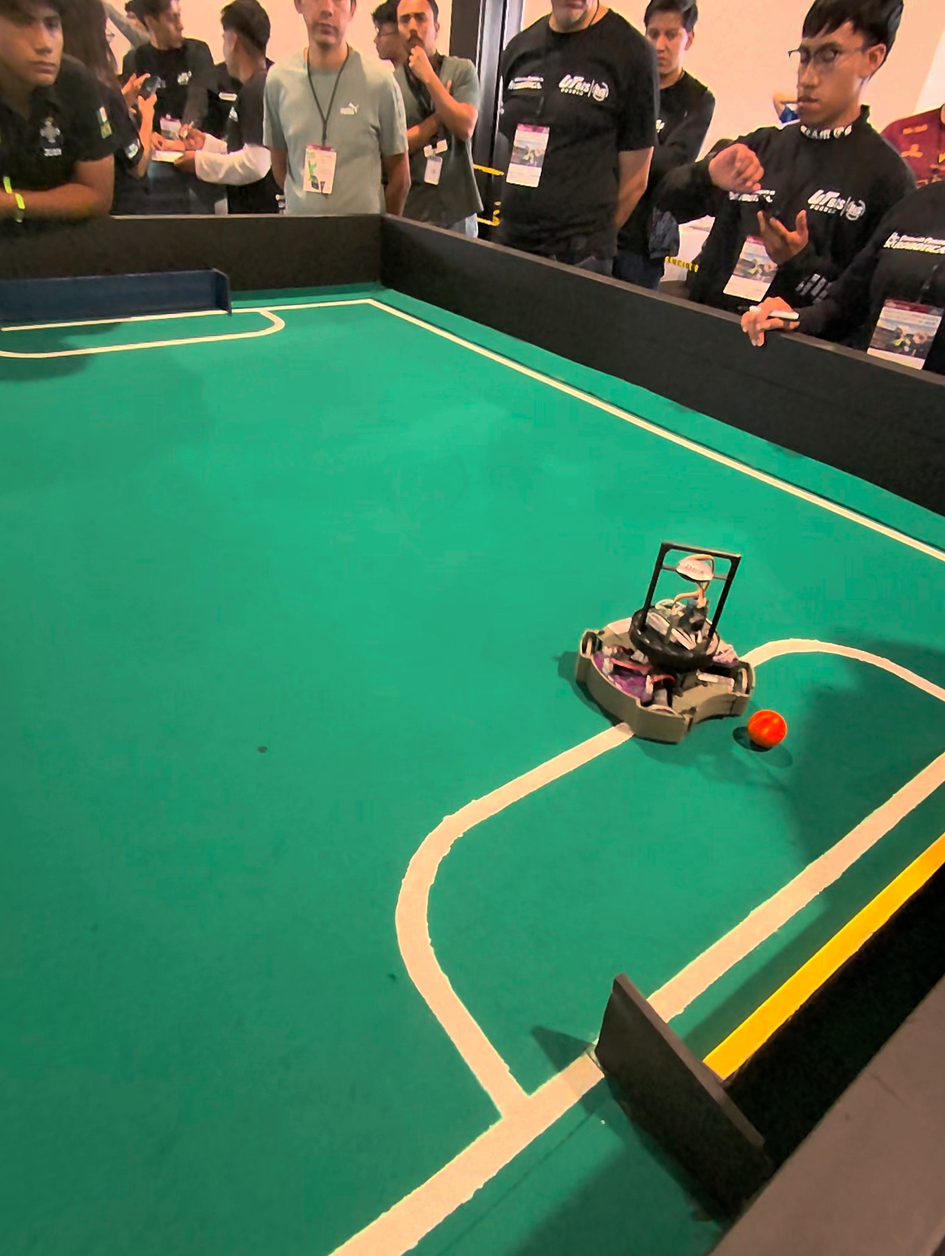Robot: (593, 527, 754, 756)
pelota: (747, 706, 789, 751)
